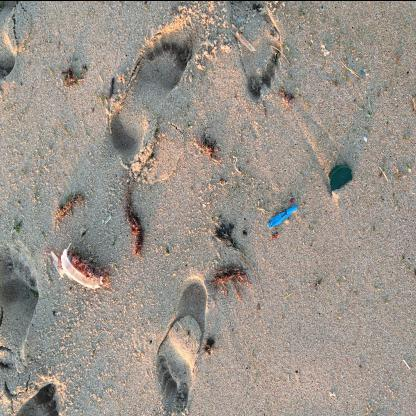plastik: (51, 242, 105, 289), (329, 165, 355, 195), (269, 205, 299, 229), (232, 24, 257, 52)
